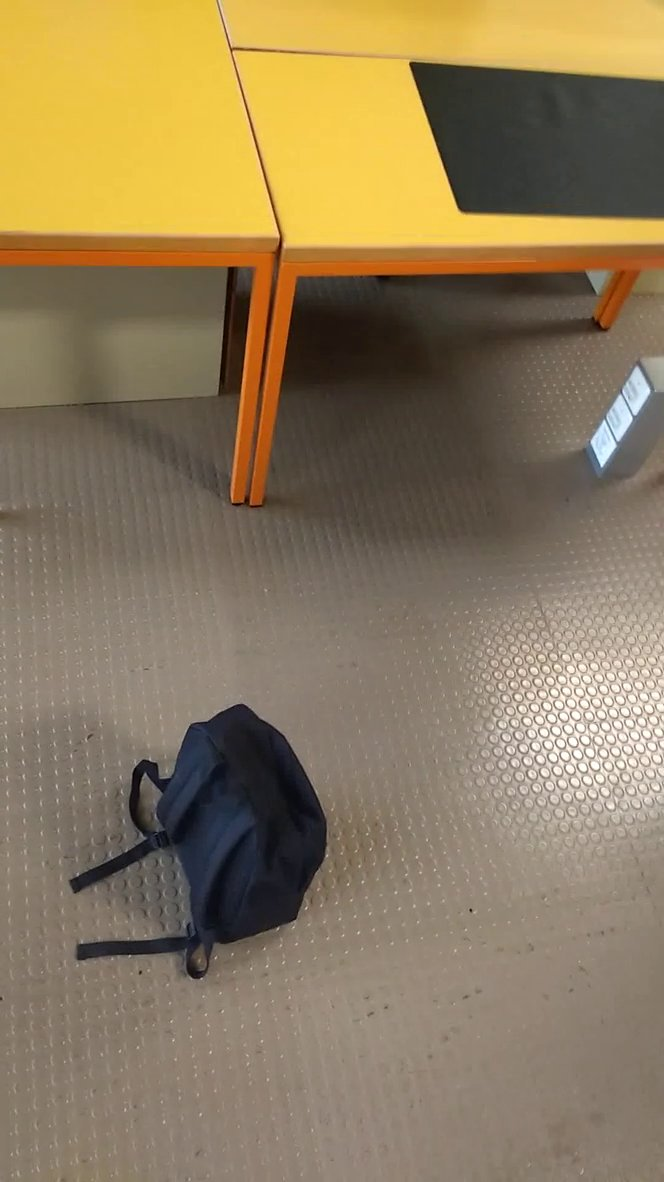bag: (62, 691, 340, 996)
